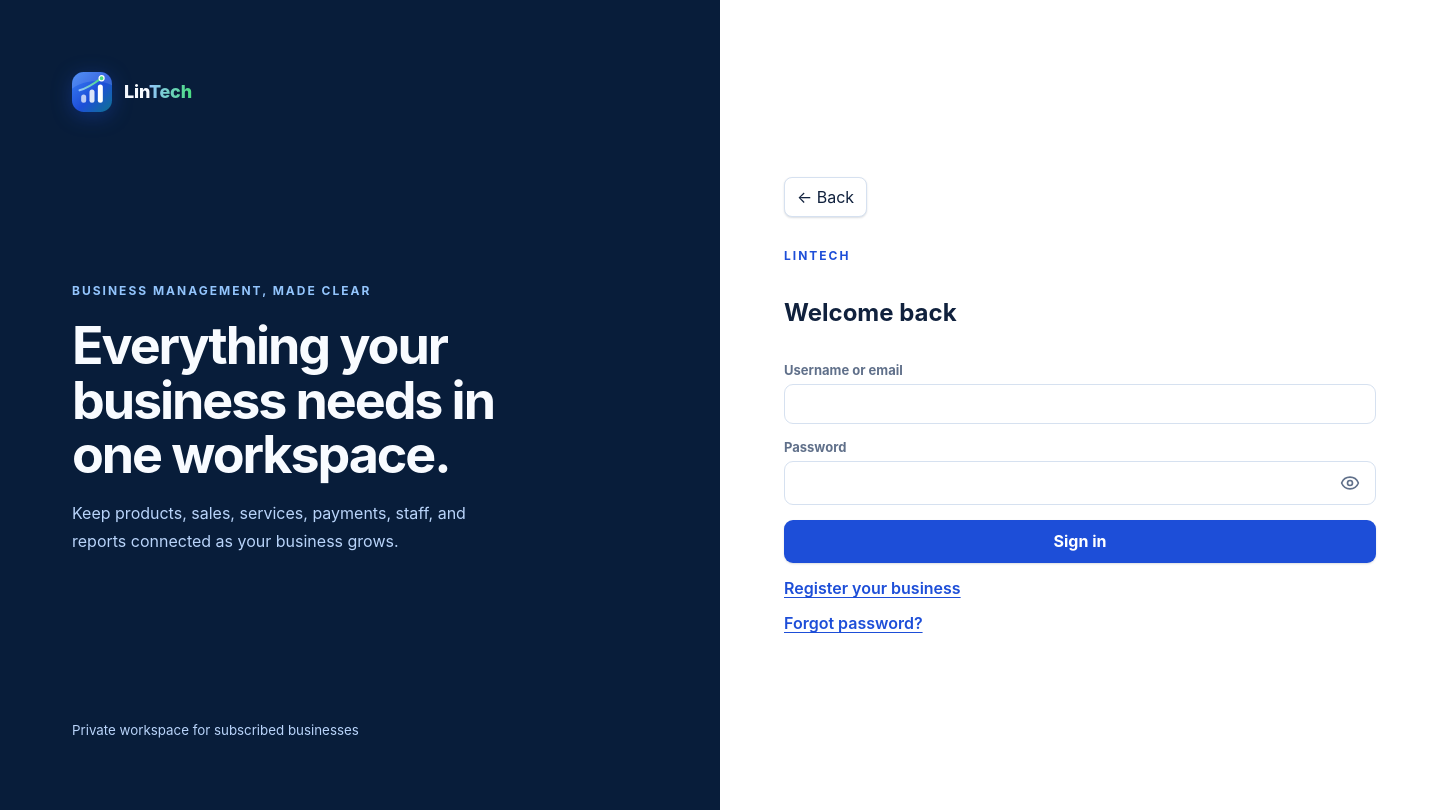
Scenario: shows a failed sign-in as a clear error below the Sign in button
In the text box labelled "Username or email": [1080, 404] box [784,384,1376,424], type "larry"
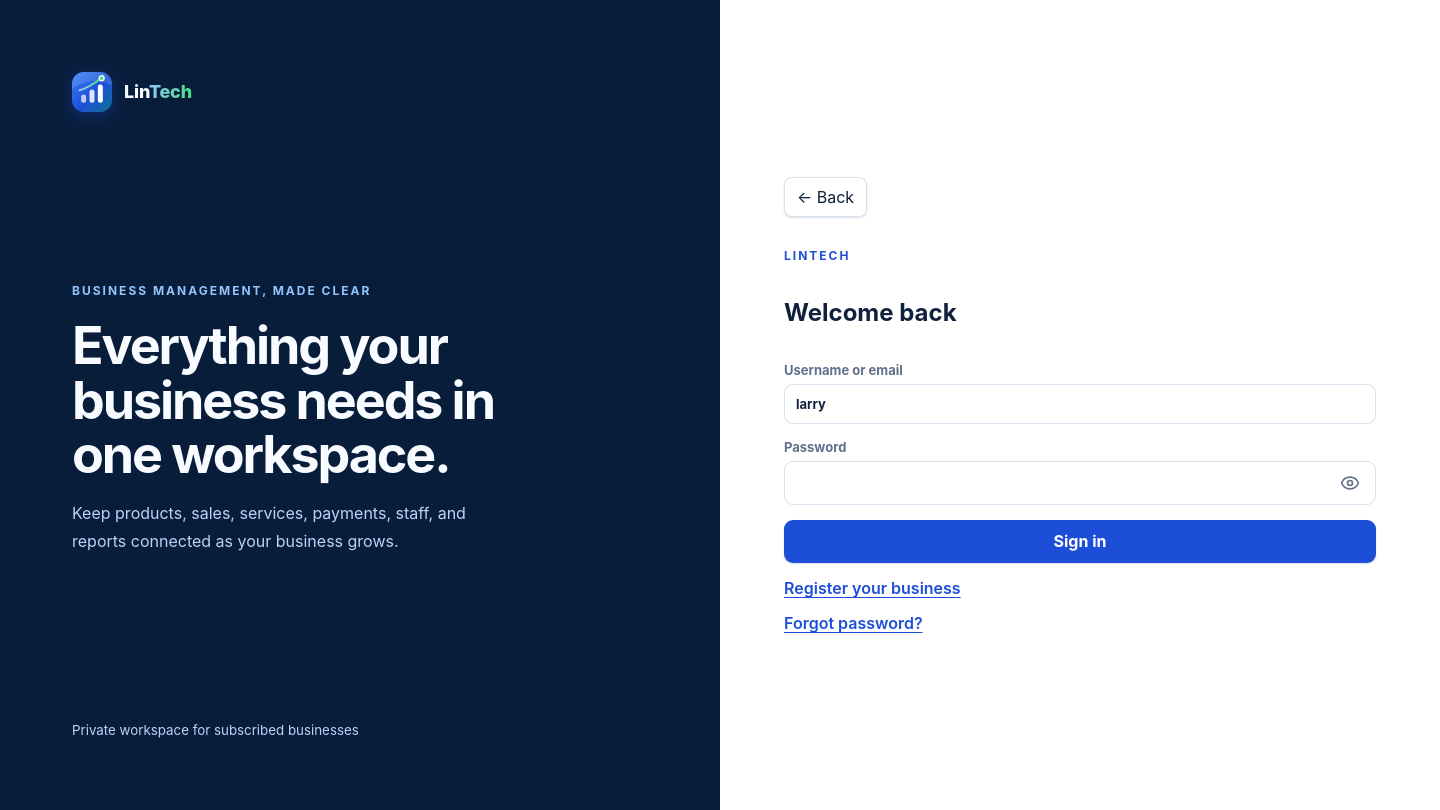
In the password field labelled "Password": [1080, 483] box [784,461,1376,505], type "wrong"
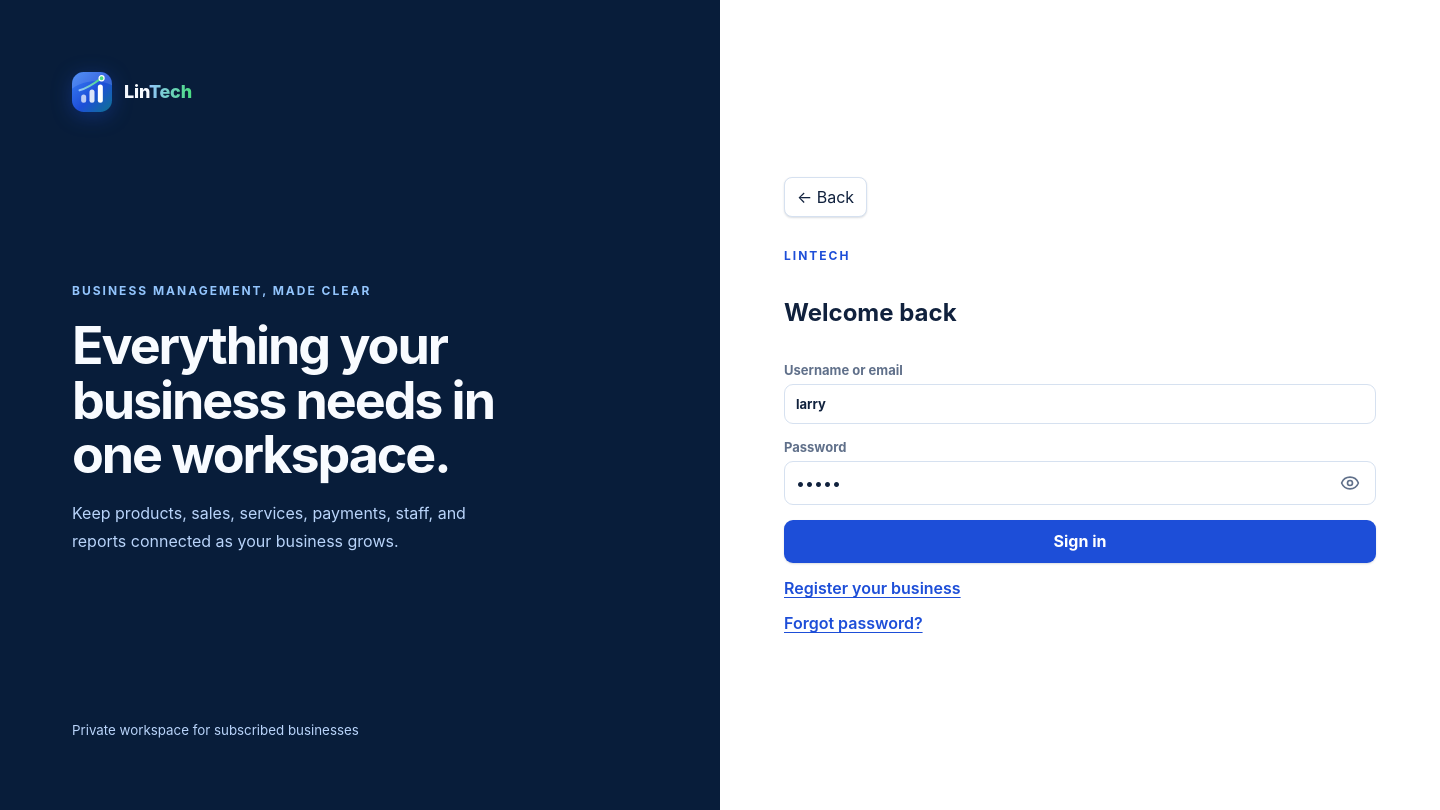
Click the button "Sign in": [1080, 541] box [784,520,1376,563]
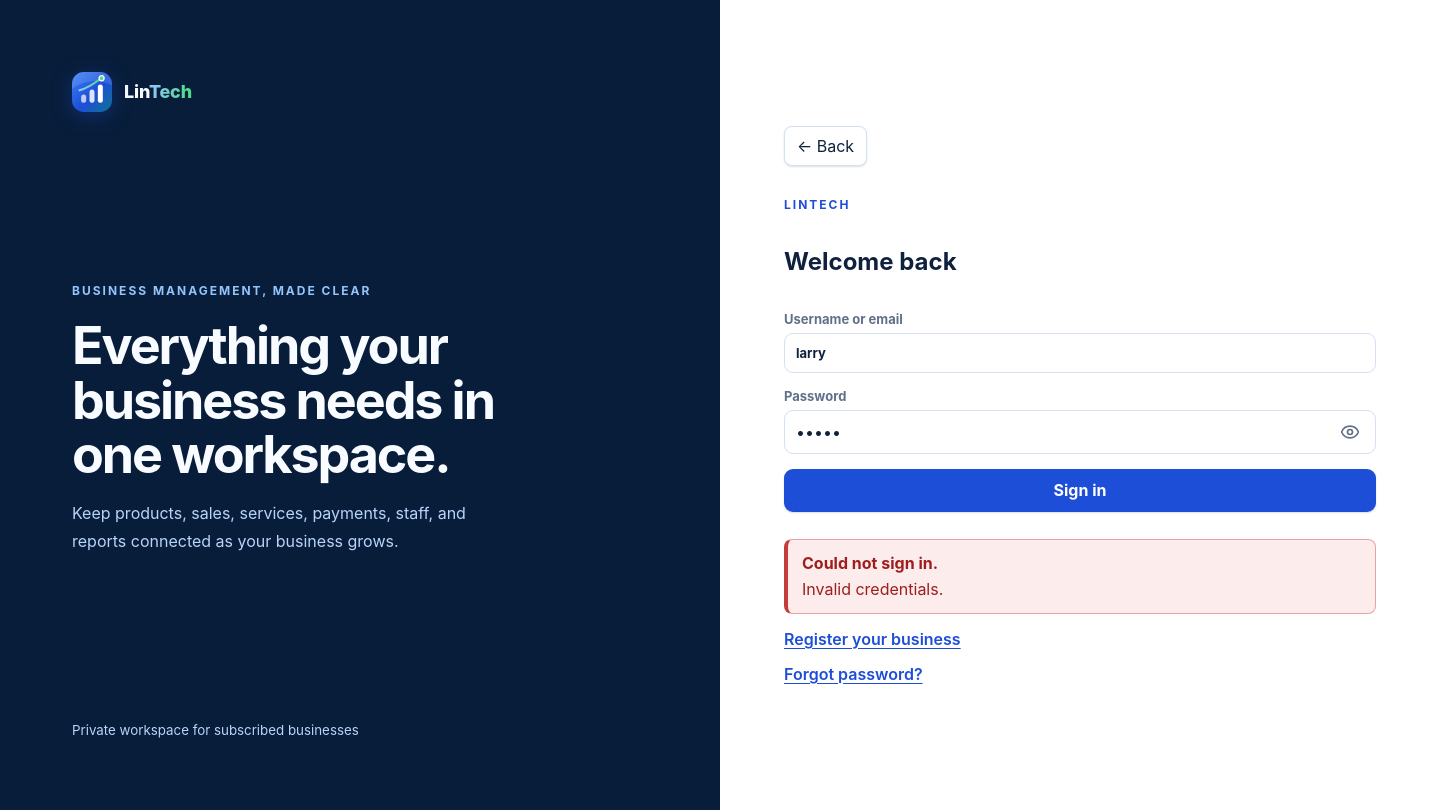
Check: the message reads "Could not sign in. Invalid credentials.", box [784,539,1376,614]
